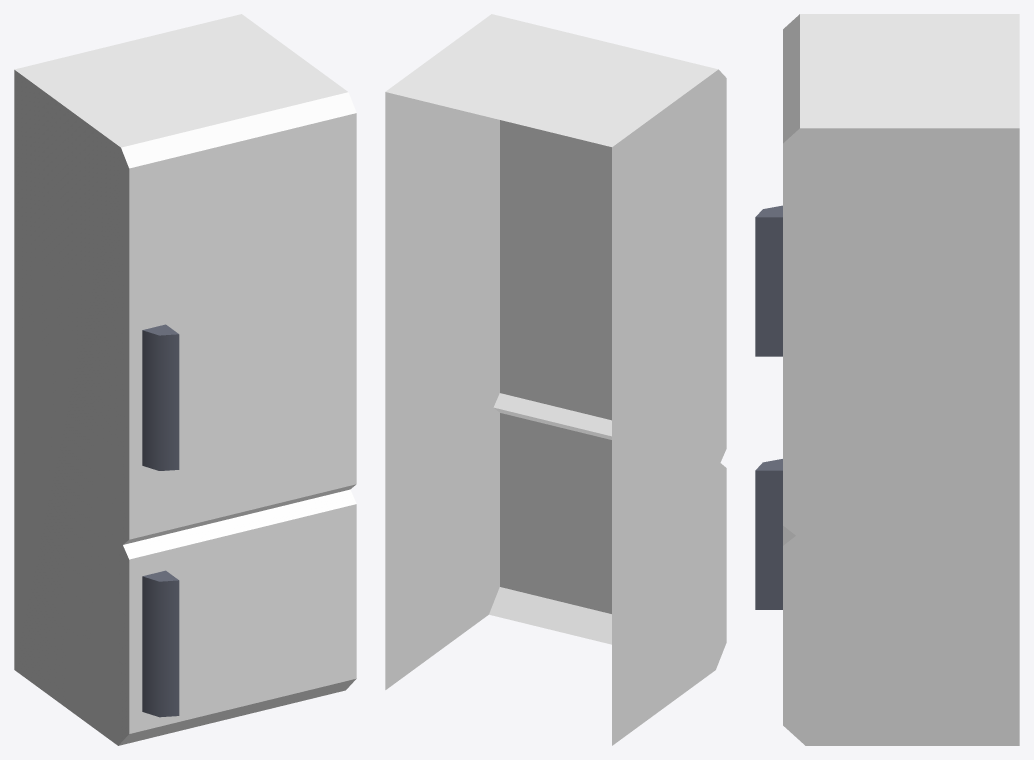
File: Fridge.fbx
3 renders of one model, left to right at view 1: azimuth 30°, elevation 25°; view 2: azimuth 150°, elevation 25°; view 3: azimuth 270°, elevation 25°, orthographic. The views are drawn at different scales.
Visible parts, largest first — view 1: Fridge; view 2: Fridge; view 3: Fridge.
Part boxes in pixels (box(x1,y1,x2,y2)): Fridge: box(14, 14, 356, 745); Fridge: box(385, 14, 726, 745); Fridge: box(755, 14, 1019, 745).
Size of the model in its own units: 0.8 by 2.02 by 0.782.
